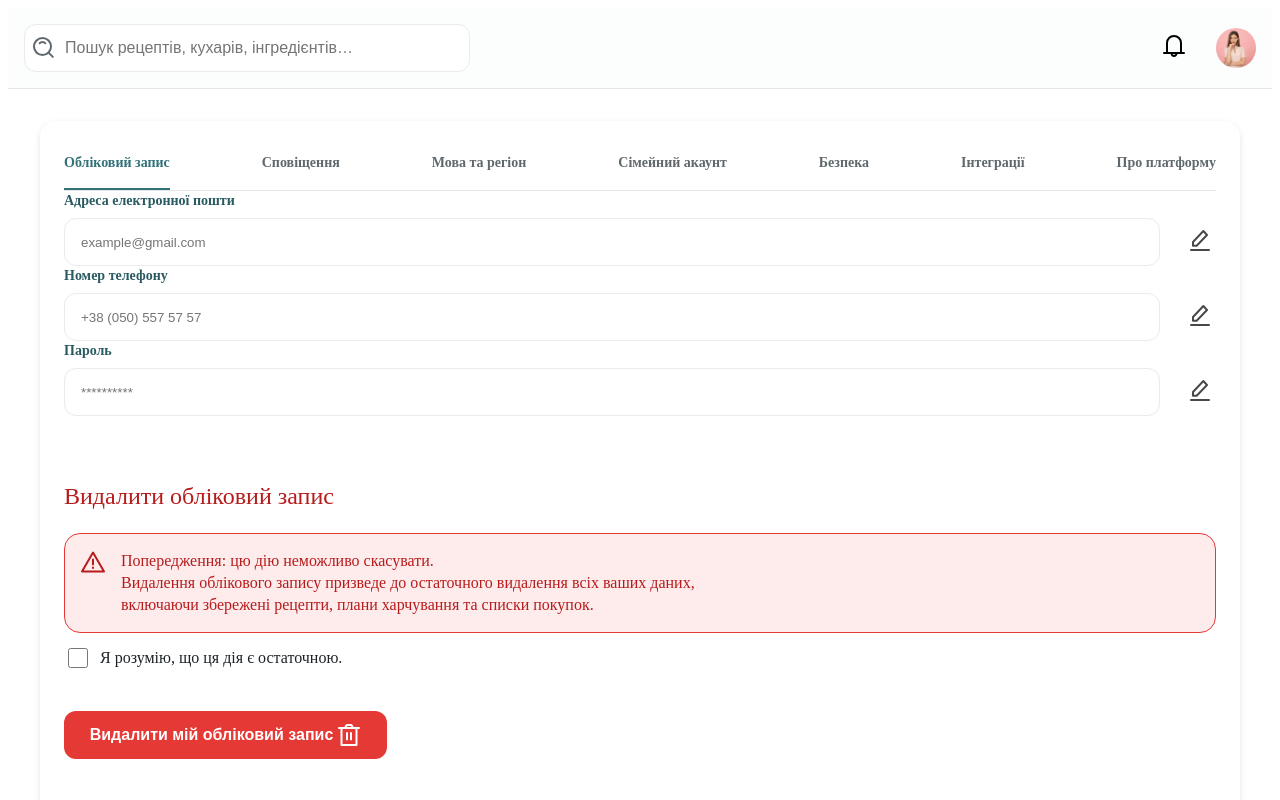
SettingsPage full tests › can add and remove a family member
Click the list item "Сімейний акаунт" at (673, 162), box [618,155,727,170]
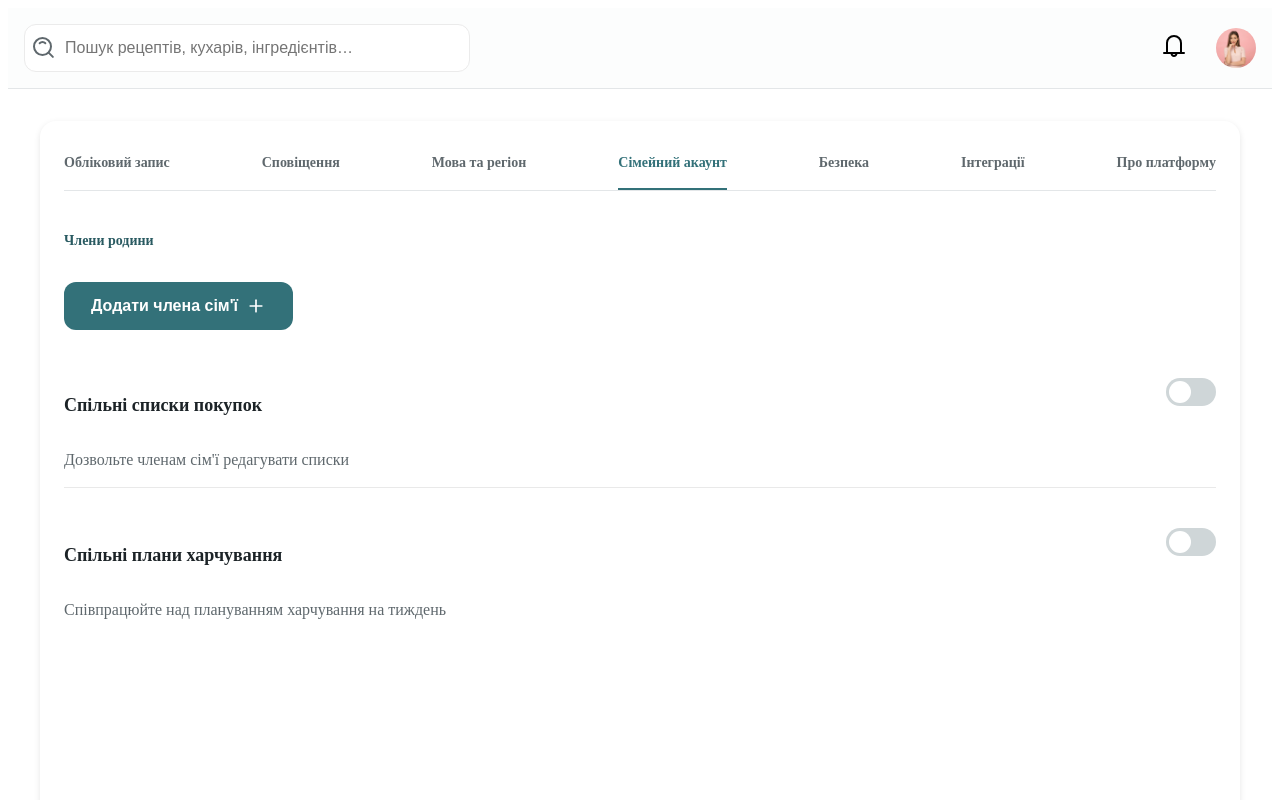
Click the button "Додати члена сім'ї" at (178, 306), box [64,282,293,330]
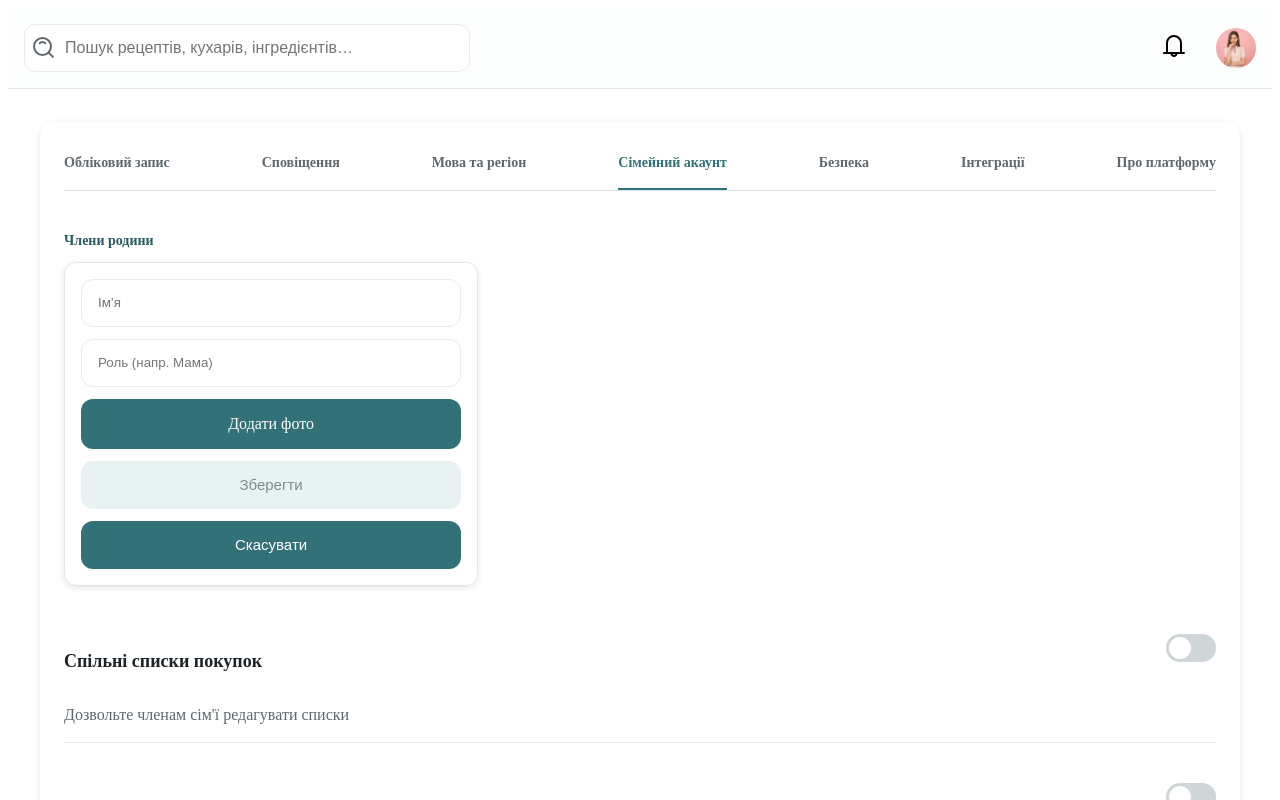
// Добавляем члена семьи
Type "Іван" into the field with placeholder "Ім’я" at (271, 303), box [81,279,461,327]
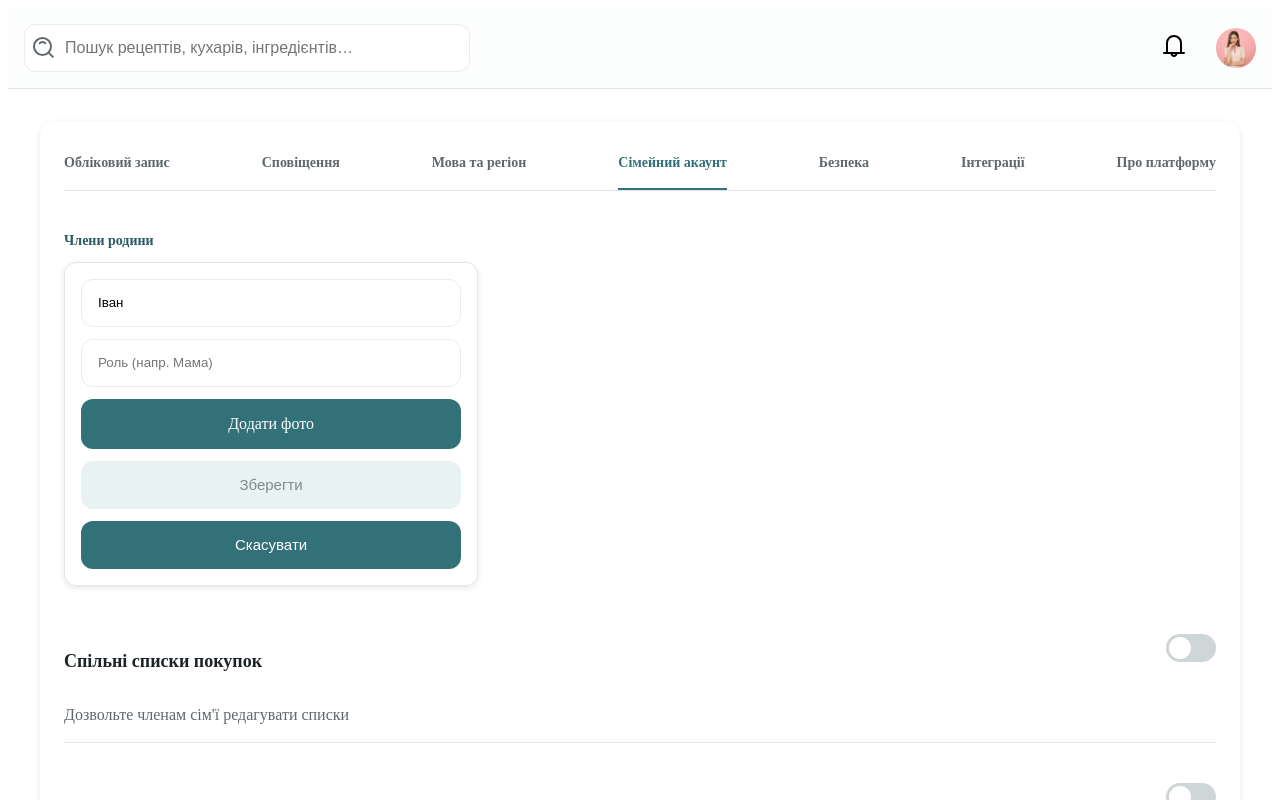
Type "Батько" into the field with placeholder "Роль (напр. Мама)" at (271, 363), box [81,339,461,387]
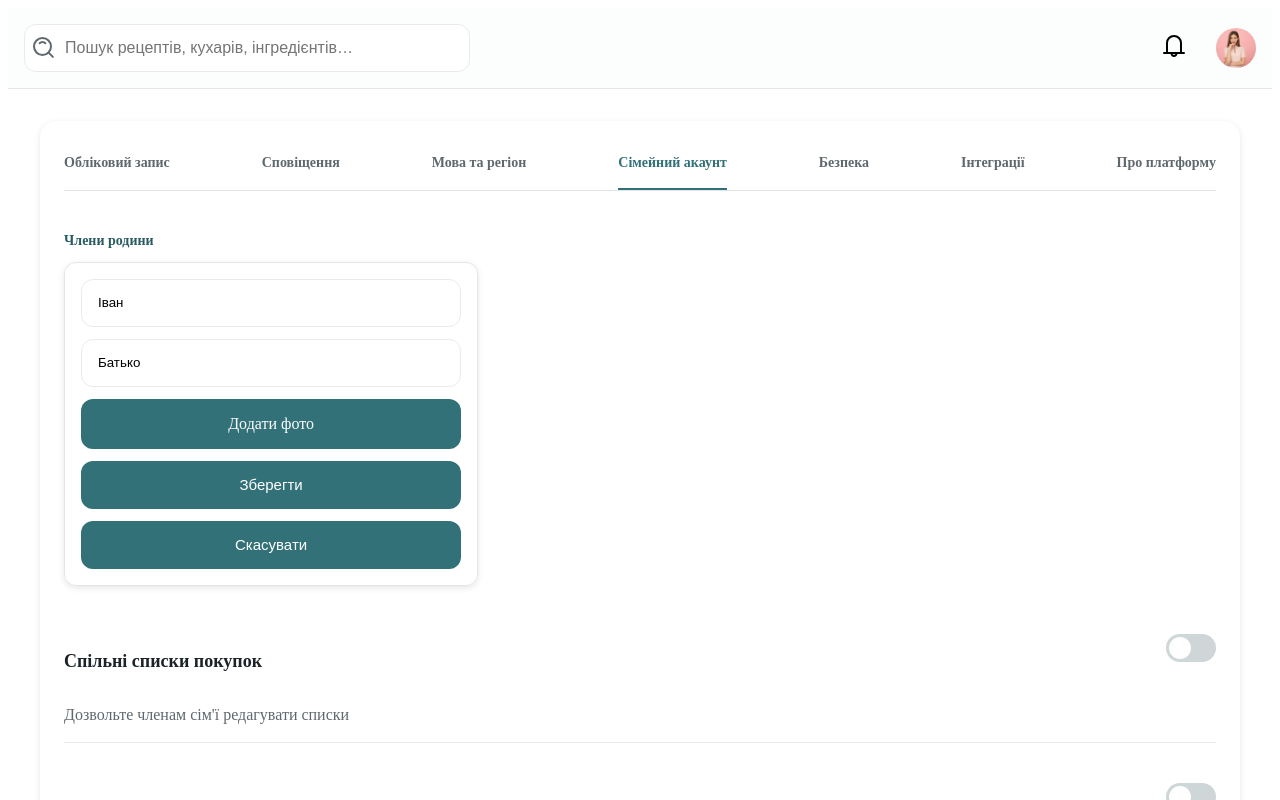
Click the button "Зберегти" at (271, 485), box [81,461,461,509]
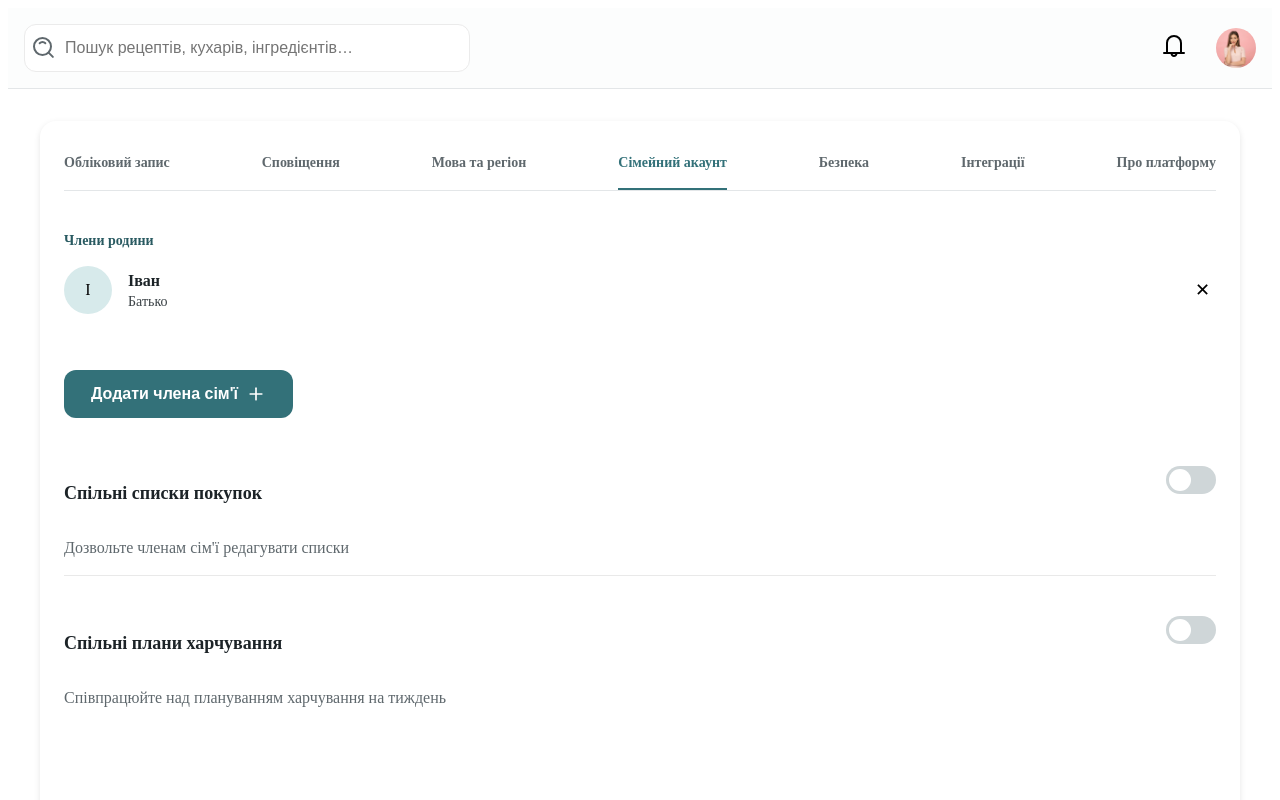
Result: the text "Іван" is shown at [128,272,160,288]
Result: the text "Батько" is shown at [128,292,168,310]
// Удаляем члена семьи
Click the button "✕" at (1202, 290), box [1189,278,1216,302]
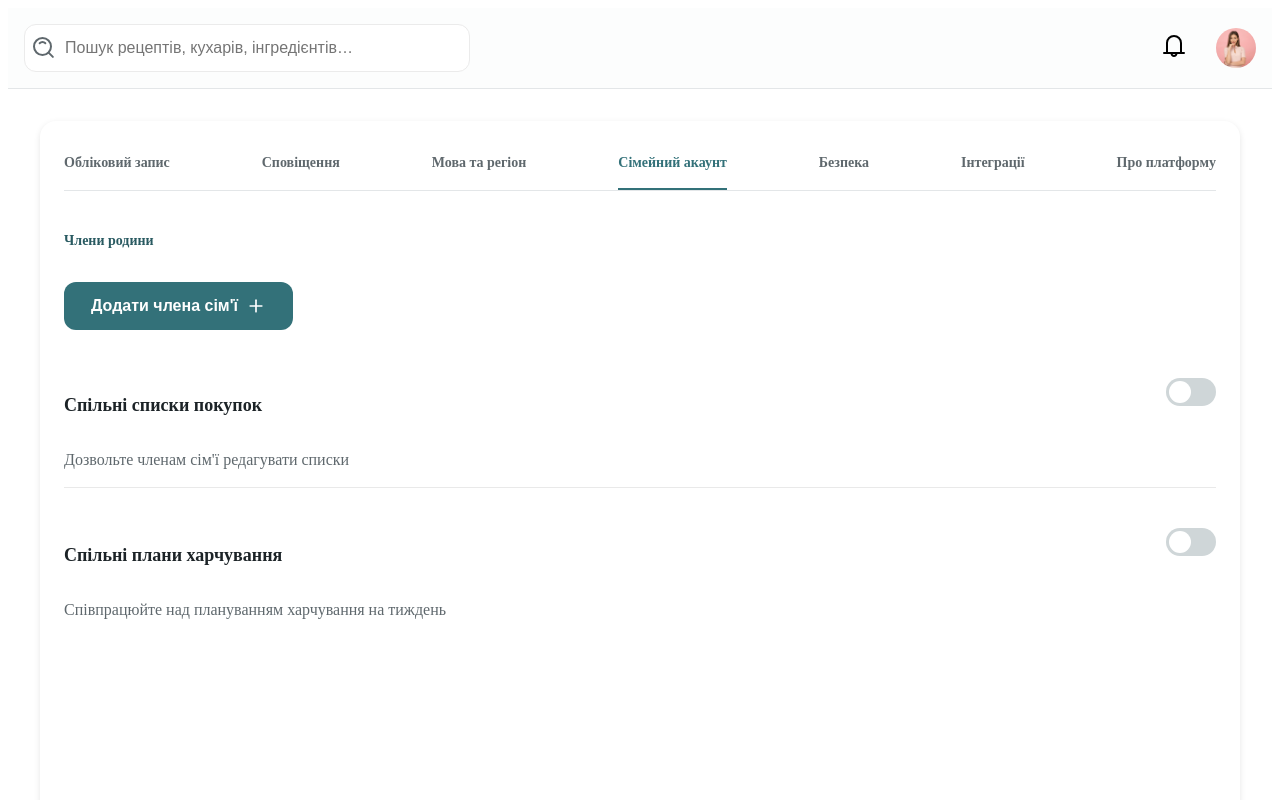
Result: the text "Іван" is gone
